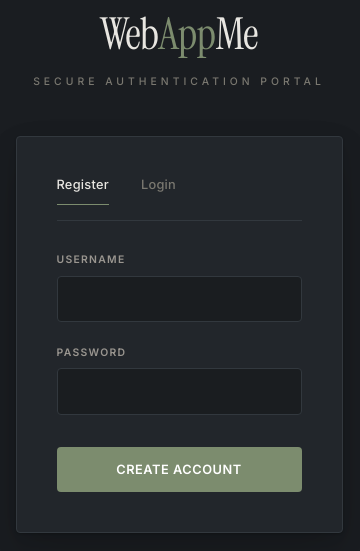
Scenario: App › switches back to register tab
Click the button "Login" at [158, 190], box [141,177,176,204]
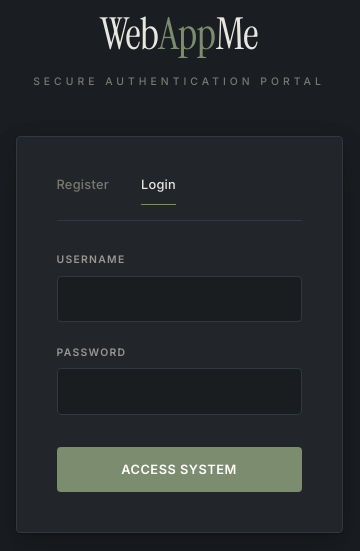
Click the button "Register" at [83, 190], box [56,177,109,204]
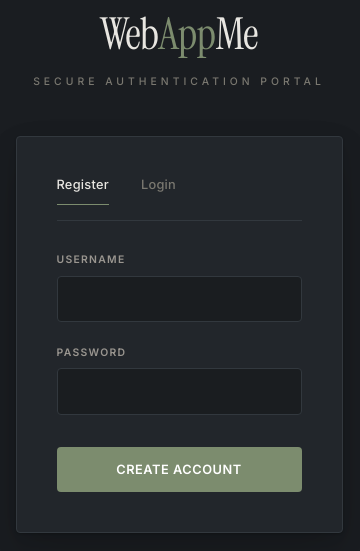
Expected: the button "Create Account" is shown, [56,447,302,492]
